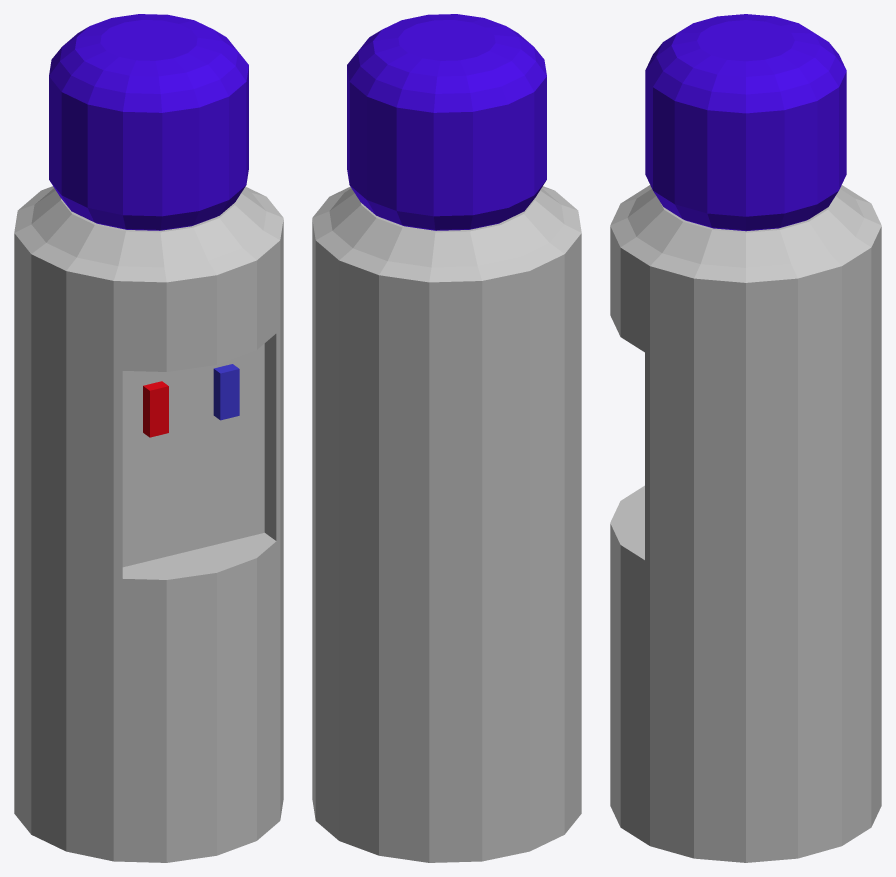
File: water-dispencer.fbx
3 views of the same model, side by side, from view 1: azimuth 30°, elevation 25°; view 2: azimuth 150°, elevation 25°; view 3: azimuth 270°, elevation 25° (orthographic).
Parts seen in each view (by area): view 1: frame, bottle, cold-dis, hot-dis; view 2: frame, bottle; view 3: frame, bottle.
Part boxes in pixels (x1,y1,x2,y2): frame: (14, 186, 283, 862); bottle: (49, 14, 248, 230); cold-dis: (213, 364, 239, 420); hot-dis: (143, 381, 168, 437); frame: (312, 186, 581, 862); bottle: (347, 14, 546, 230); frame: (610, 185, 881, 862); bottle: (645, 14, 846, 231).
Size of the model in its own units: 200 by 621 by 200.
